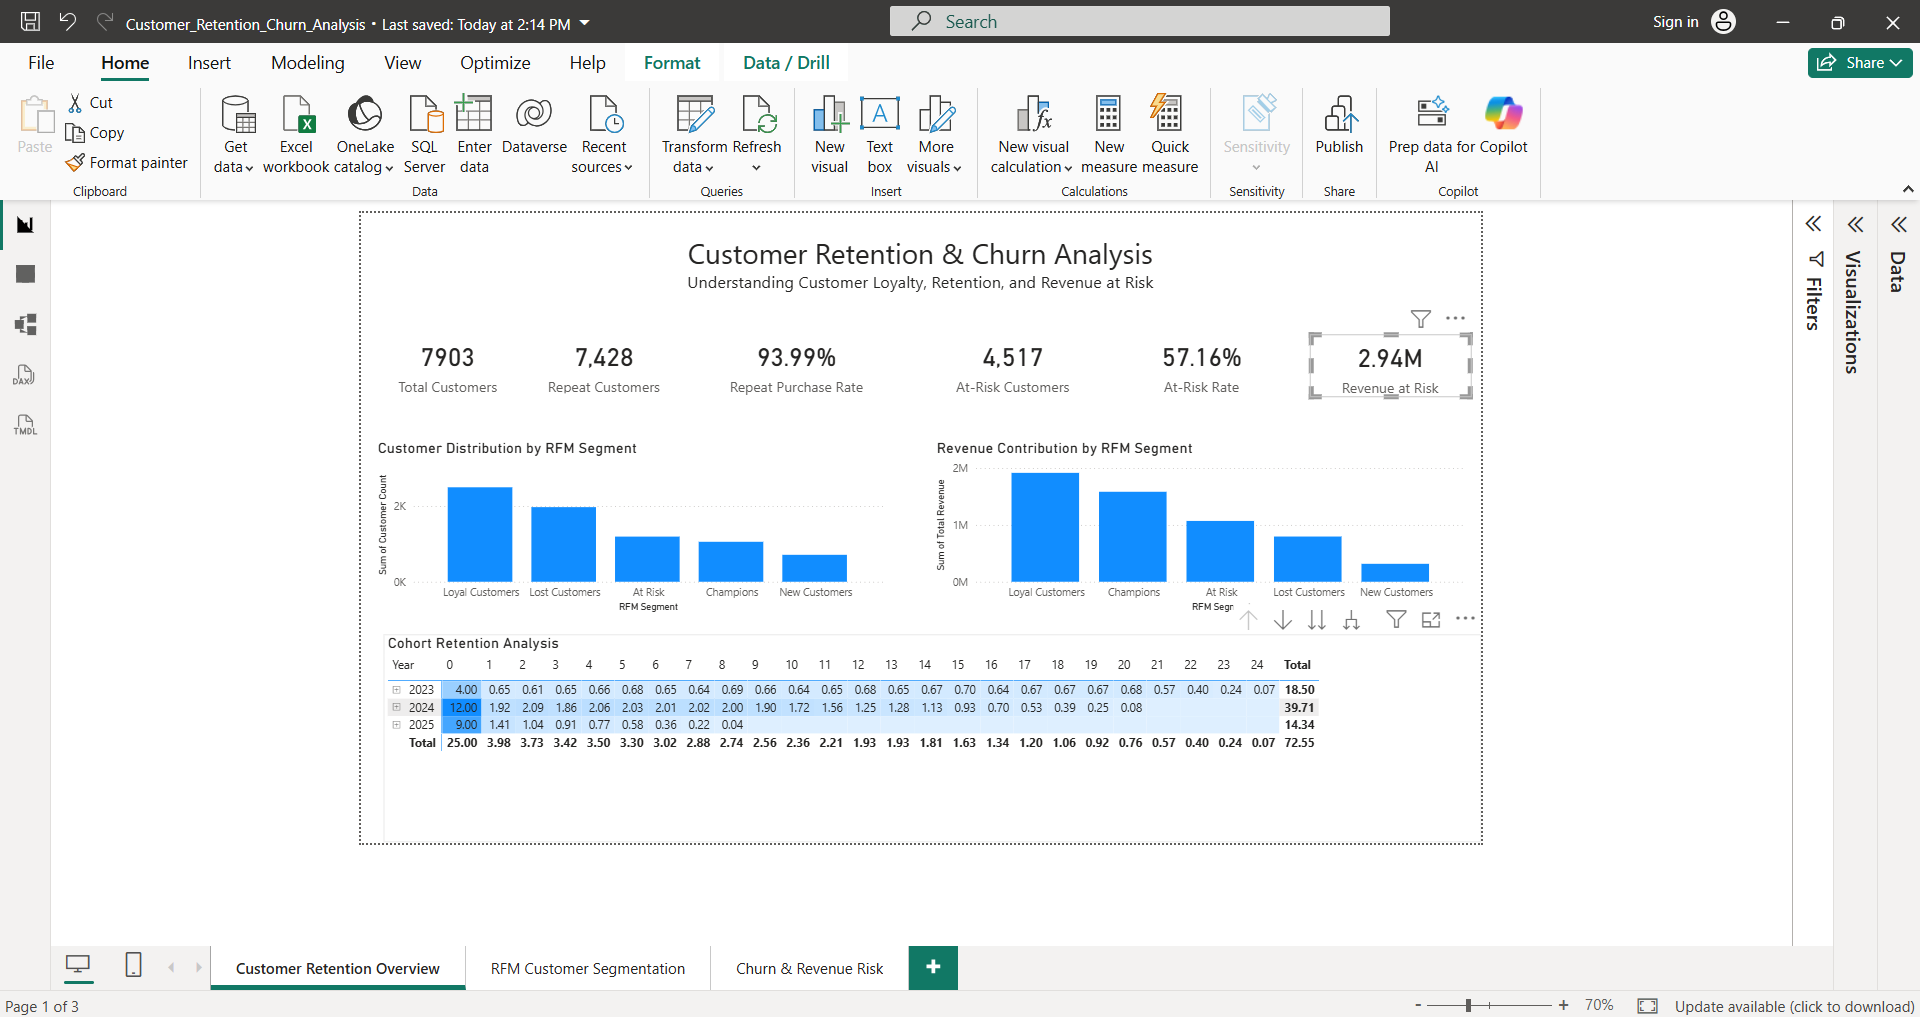

Layout of this report page (visuals, bound fields, positions):
{"tool":"powerbi","page":{"name":"Customer Retention Overview","canvas":[1280,720],"ordinal":0},"visuals":[{"type":"textbox","box":[10,18.6,1258.6,82.9],"z":0},{"type":"card","fields":{"Values":["KPI Validation.Total Customers"]},"box":[10,135.7,178.6,75.7],"z":1000},{"type":"card","fields":{"Values":["KPI Validation.Repeat Customers"]},"box":[188.6,135.7,178.6,75.7],"z":2000},{"type":"card","fields":{"Values":["KPI Validation.Repeat Purchase Rate"]},"box":[408.6,134.3,178.6,80],"z":3000},{"type":"card","fields":{"Values":["KPI Validation.At-Risk Customers"]},"box":[652.9,137.1,184.3,74.3],"z":4000},{"type":"card","fields":{"Values":["KPI Validation.At-Risk Rate"]},"box":[868.6,137.1,184.3,74.3],"z":5000},{"type":"card","fields":{"Values":["KPI Validation.Revenue at Risk"]},"box":[1084.3,138.6,184.3,72.9],"z":6000},{"type":"clusteredColumnChart","title":"Customer Distribution by RFM Segment","fields":{"Category":["RFM Summary.RFM Segment"],"Y":["Sum(RFM Summary.Customer Count)"]},"box":[14.3,258.6,587.1,202.9],"z":7000},{"type":"clusteredColumnChart","title":"Revenue Contribution by RFM Segment","fields":{"Category":["RFM Summary.RFM Segment"],"Y":["Sum(RFM Summary.Total Revenue)"]},"box":[652.9,258.6,615.7,202.9],"z":8000},{"type":"pivotTable","title":"Cohort Retention Analysis","fields":{"Rows":["Cohort Retention.cohort_month.Variation.Date Hierarchy.Year","Cohort Retention.cohort_month.Variation.Date Hierarchy.Quarter","Cohort Retention.cohort_month.Variation.Date Hierarchy.Month","Cohort Retention.cohort_month.Variation.Date Hierarchy.Day"],"Columns":["Cohort Retention.month_number"],"Values":["Sum(Cohort Retention.Retention %)"]},"box":[25.7,481.4,1254.3,238.6],"z":9000}]}

Visuals, with their boxes on the page's 1280x720 design canvas (x1, y1, x2, y2). These are canvas units, not pixel positions in the 1920x1017 screenshot, which may show the page scaled, cropped or inside an application window:
textbox: crop(10, 19, 1269, 102)
card - KPI Validation.Total Customers: crop(10, 136, 189, 211)
card - KPI Validation.Repeat Customers: crop(189, 136, 367, 211)
card - KPI Validation.Repeat Purchase Rate: crop(409, 134, 587, 214)
card - KPI Validation.At-Risk Customers: crop(653, 137, 837, 211)
card - KPI Validation.At-Risk Rate: crop(869, 137, 1053, 211)
card - KPI Validation.Revenue at Risk: crop(1084, 139, 1269, 212)
"Customer Distribution by RFM Segment" clusteredColumnChart: crop(14, 259, 601, 462)
"Revenue Contribution by RFM Segment" clusteredColumnChart: crop(653, 259, 1269, 462)
"Cohort Retention Analysis" pivotTable: crop(26, 481, 1280, 720)
